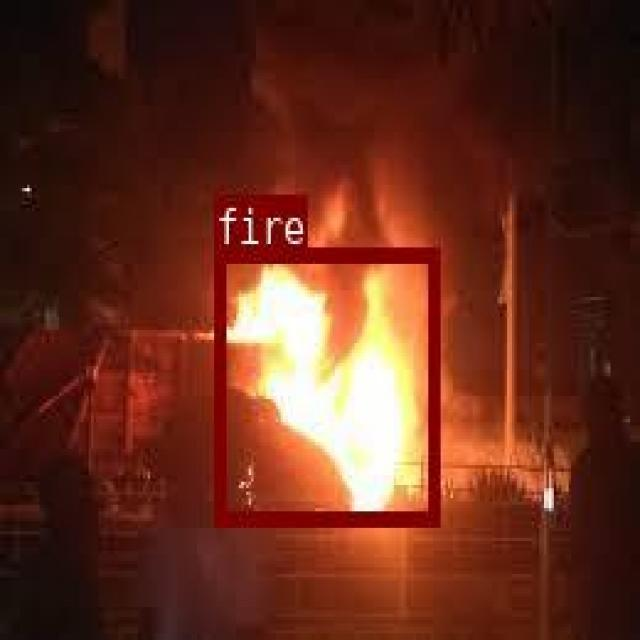fire: (213, 245, 438, 522)
